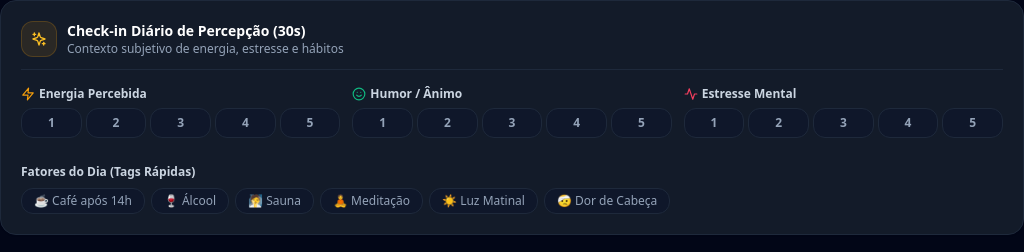
Test: DailyCheckinCard autosave › does not show stale success while a newer revision is still waiting
Click the button named "Energia nível 1".
click(51, 123)  # box x1=21 y1=108 x2=82 y2=138
Wait 600 ms
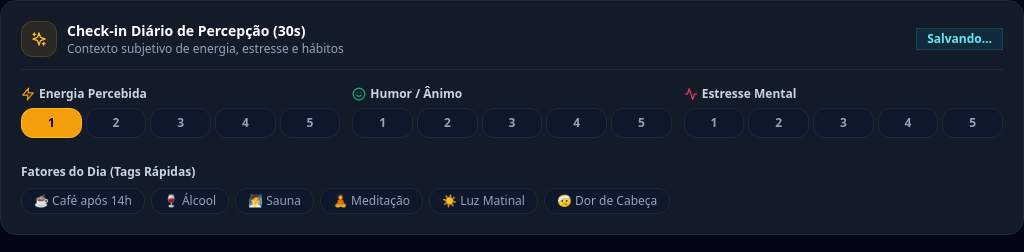
Click the button named "Energia nível 2".
click(116, 123)  # box x1=86 y1=108 x2=146 y2=138
Wait 600 ms
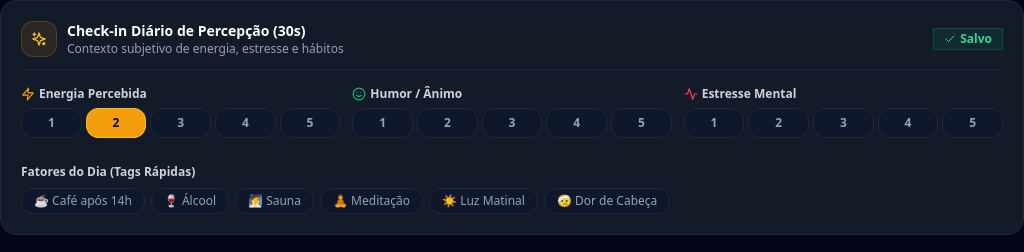
Expected: the text "Salvo" is shown, x1=933 y1=28 x2=1003 y2=50
